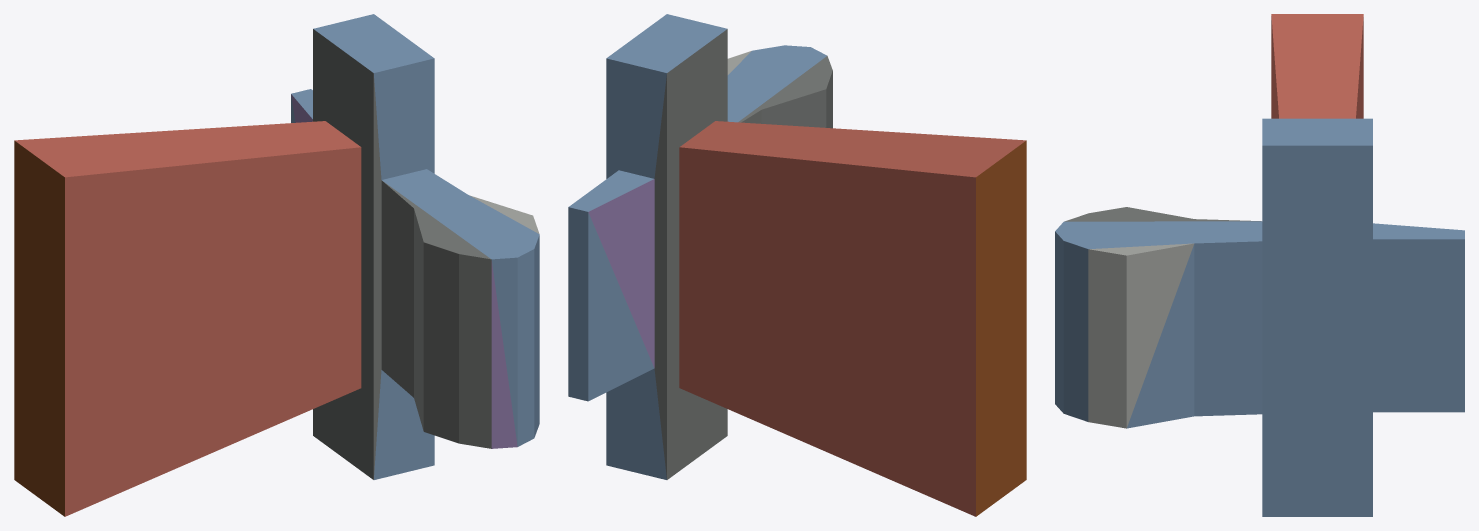
Rendered from tool-axe.glb.
The picture shows the model from 3 angles, left to right: view 1: azimuth 30°, elevation 25°; view 2: azimuth 150°, elevation 25°; view 3: azimuth 270°, elevation 25°; orthographic projection. The views are drawn at different scales.
Bounding box in the file's own units: 1 × 1 × 1.
